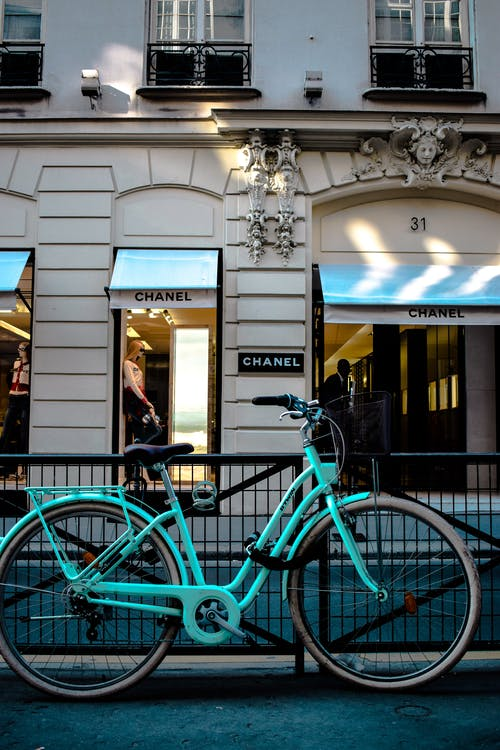bicycle: (1, 383, 488, 711)
